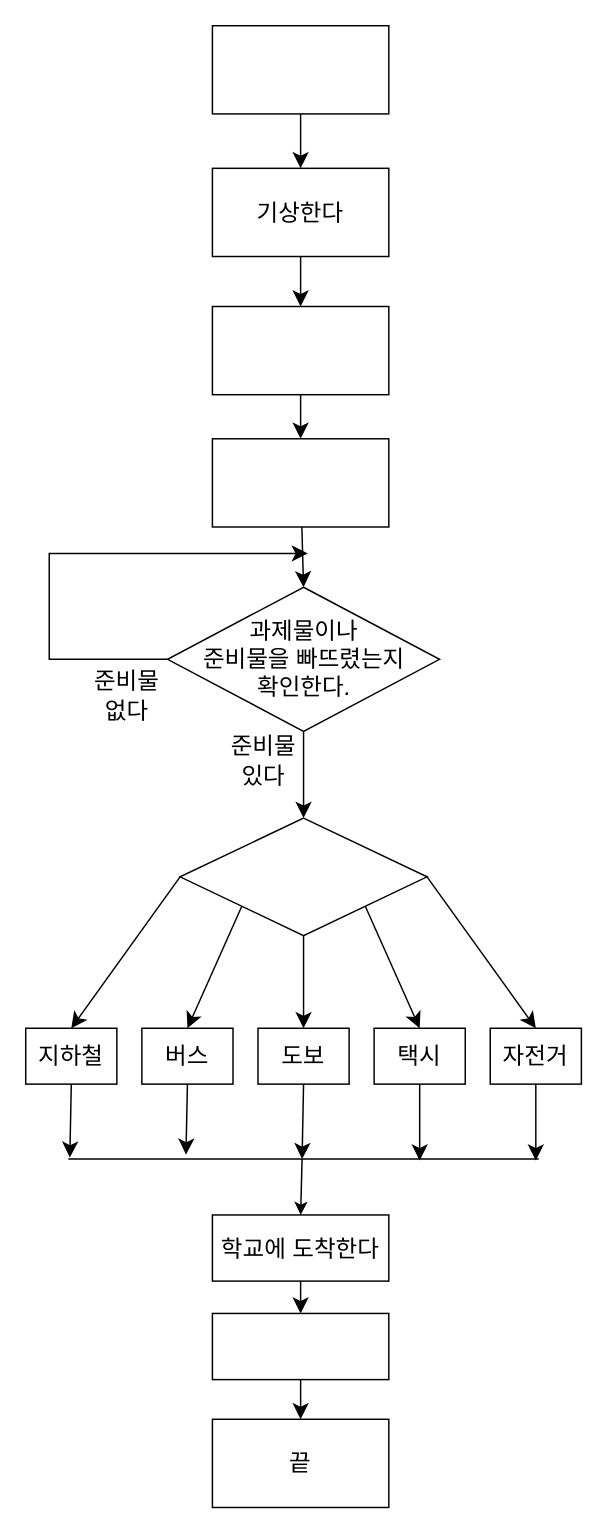
The diagram is 607 pixels wide and 1533 high, and some of its shapes have lost their labels. The shapes that lost their labels are listed below. From the top down, each one's centre as x and y in pixels, then its label:
At point 300,69: "시작".
At point 300,350: "세면을 한다".
At point 300,482: "아침 식사를 한다".
At point 303,876: "교통 수단을 선택한다.".
At point 300,1346: "교실에 입실한다".
